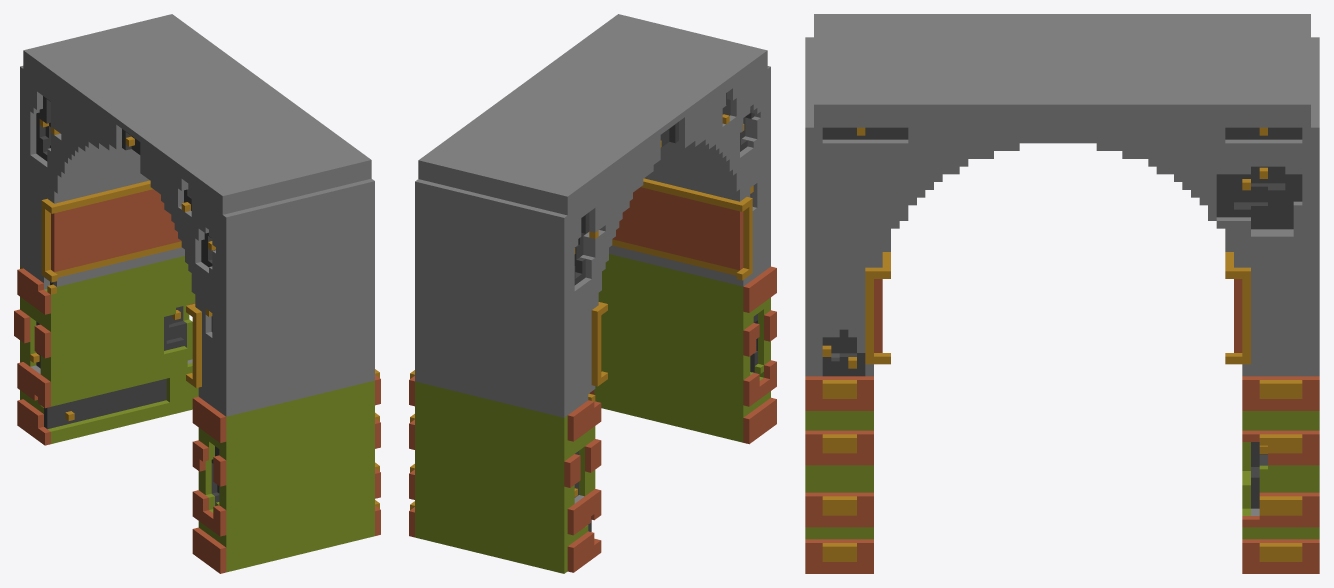
The model's file is door-2.obj.
3 renders of one model, left to right at view 1: azimuth 30°, elevation 25°; view 2: azimuth 150°, elevation 25°; view 3: azimuth 270°, elevation 25°, orthographic. The views are drawn at different scales.
Bounding box in the file's own units: 2.8 × 6 × 6.
Materials: 1 (1 with a texture image).
